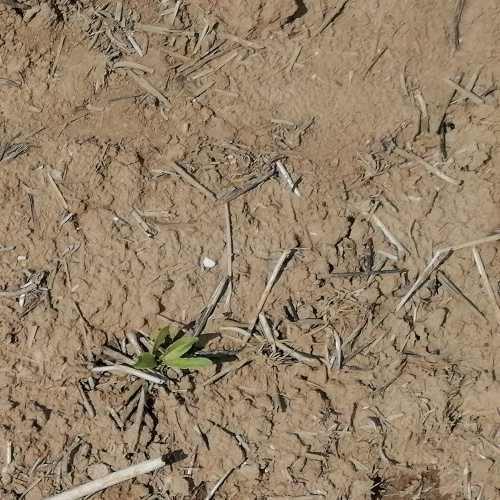beet: (133, 329, 213, 372)
